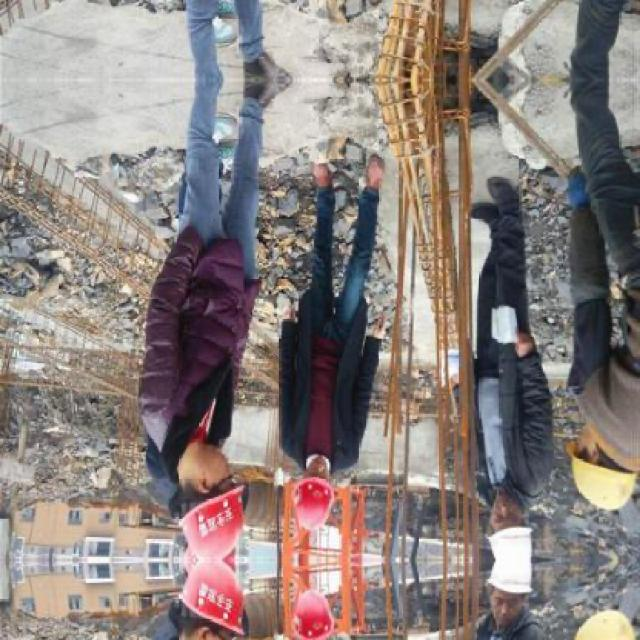con casco: (91, 418, 289, 560), (286, 458, 362, 534), (582, 432, 640, 516), (459, 490, 547, 540)
